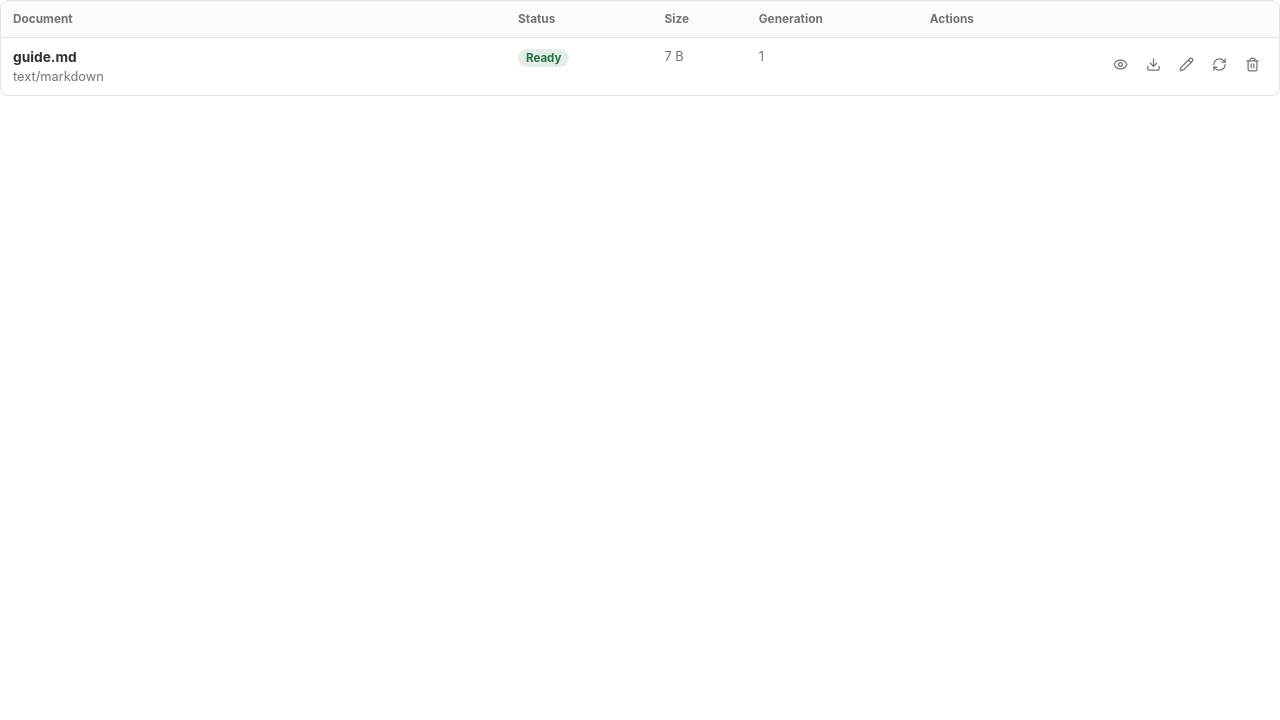
KnowledgeDocumentTable › reports a rename error and keeps the dialog open for retry
The image size is (1280, 720).
Click the button named "rename guide.md".
click(1186, 64)  # box [1171,49,1201,79]
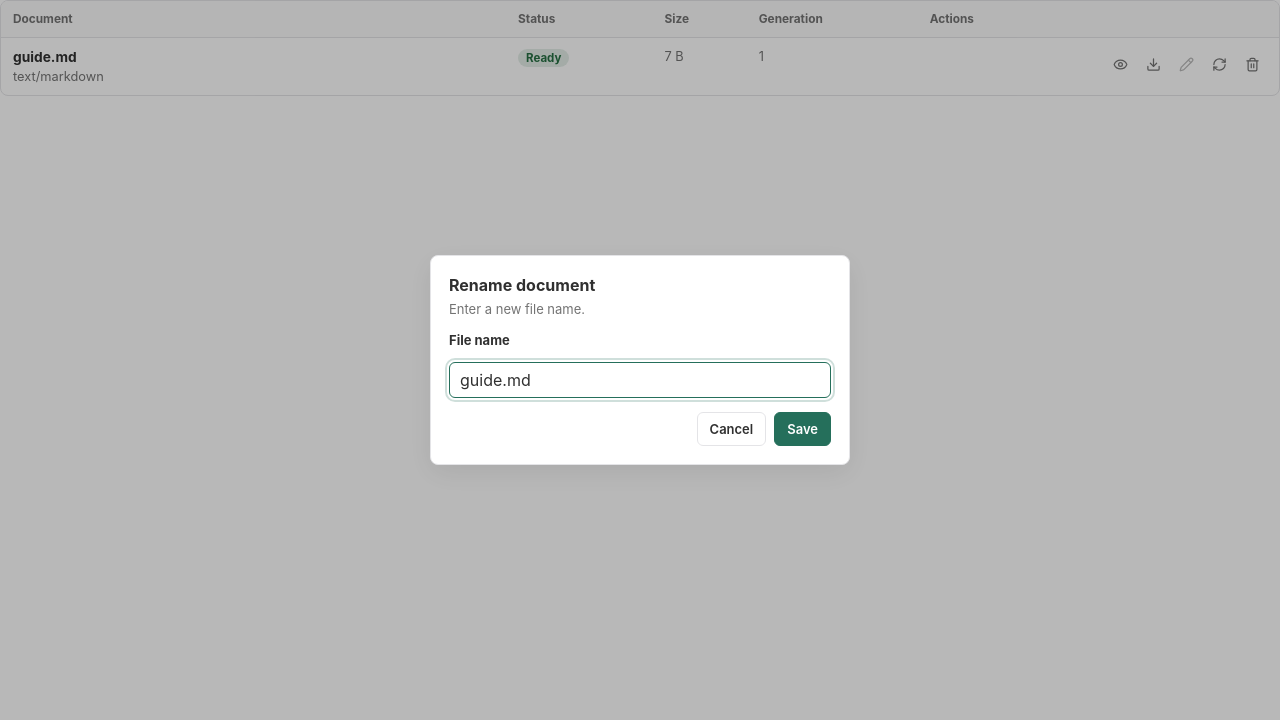
Replace the text in the field labelled "File name" with "renamed-guide.md" at (640, 380), box [449,362,831,398]
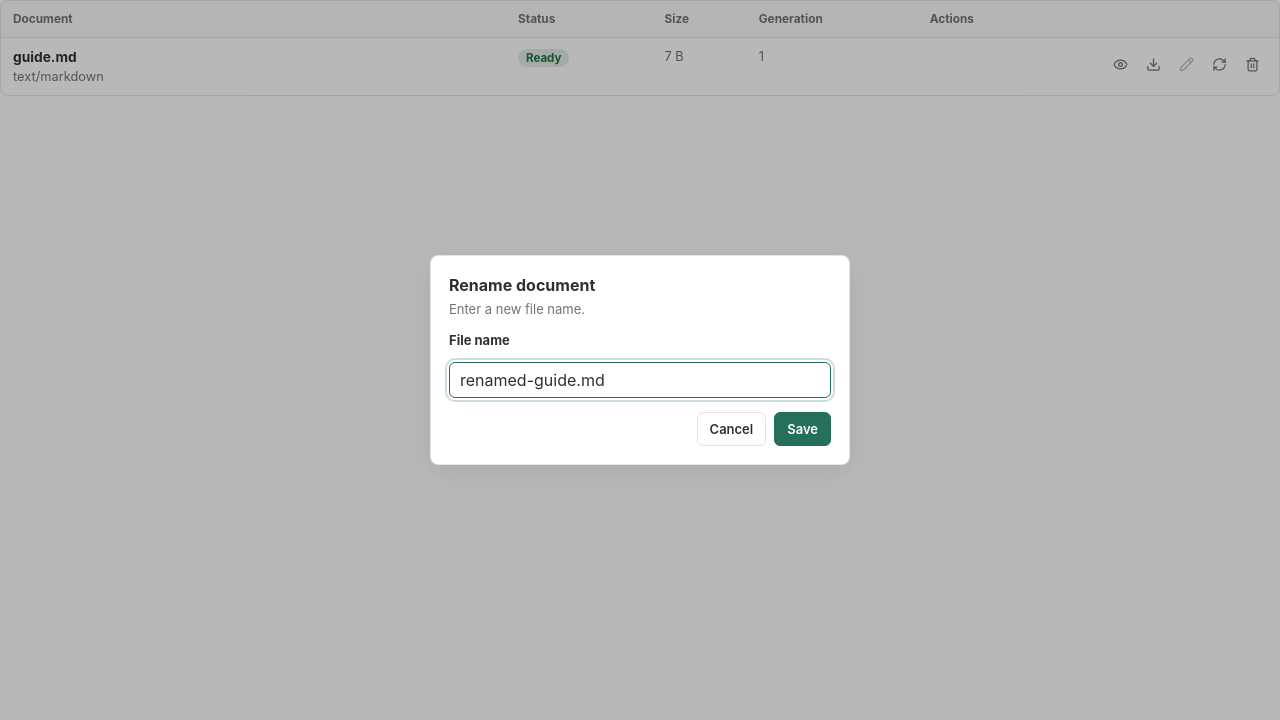
Click the button "Save".
click(803, 429)  # box [774,412,831,446]
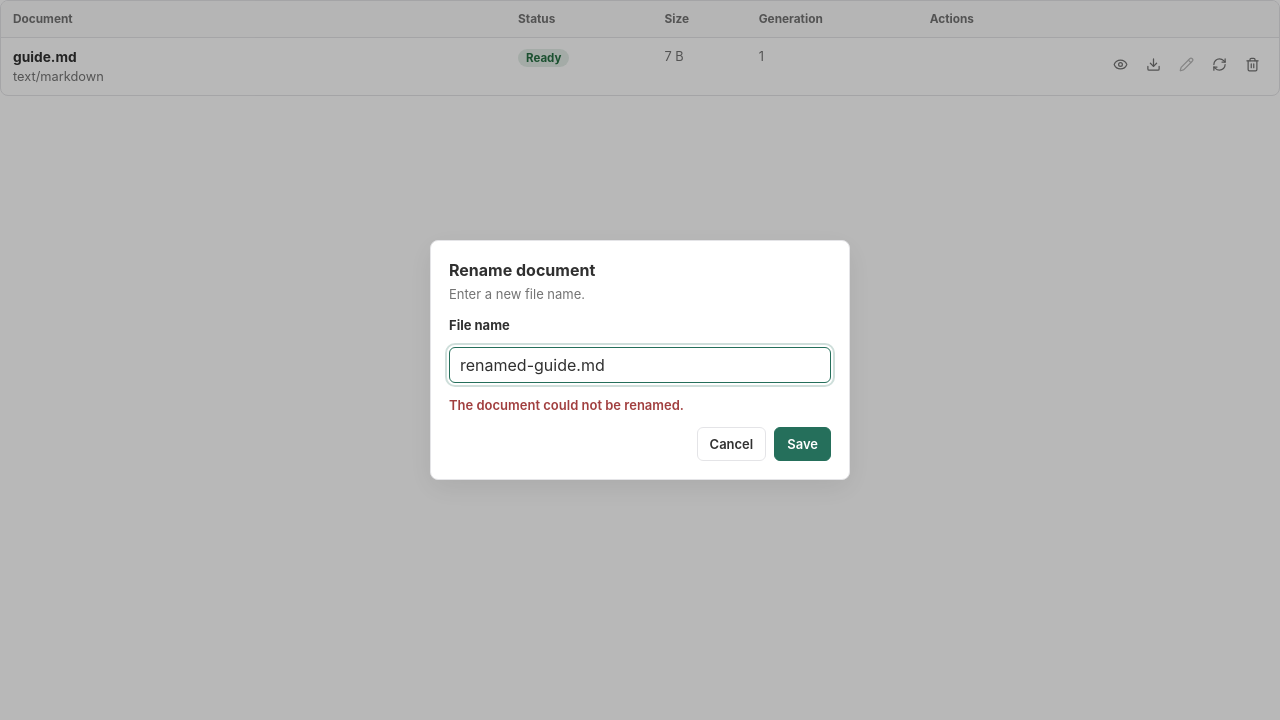
Now the dialog "Rename document" is shown, box [430,240,850,480]
Now the message shows "could not be renamed", box [449,397,684,413]
Click the button "Cancel".
click(731, 444)  # box [696,427,766,461]
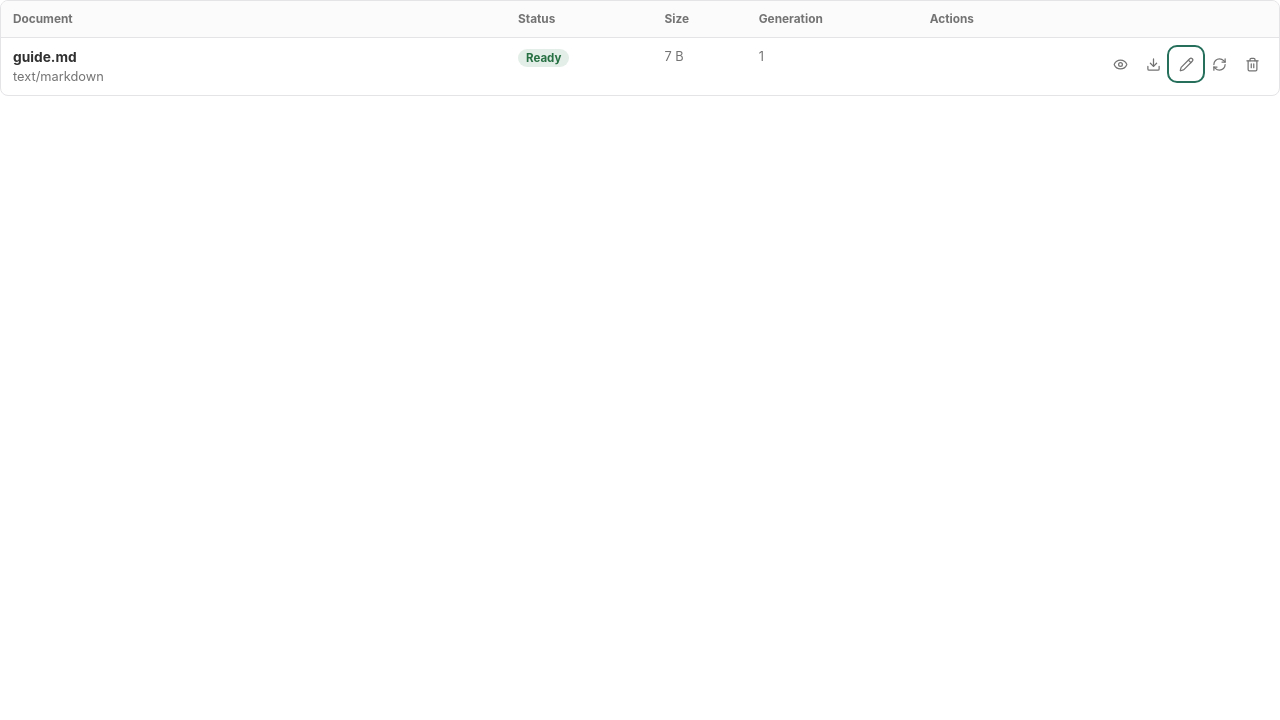
Now the dialog is gone
